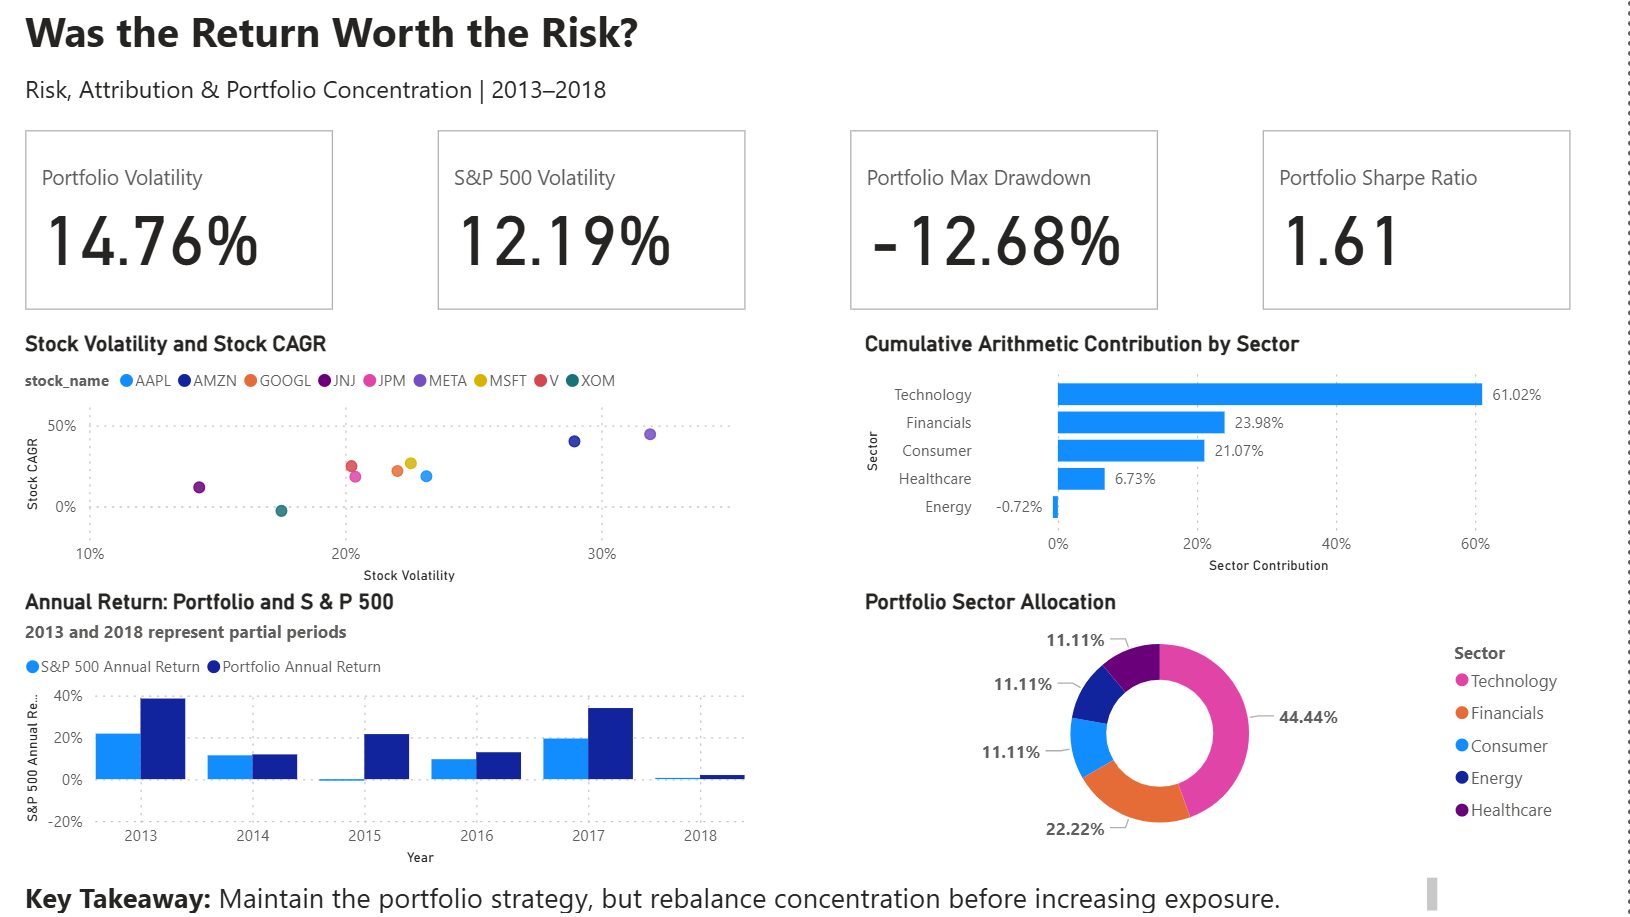

What the dashboard file says about the page in this screenshot:
{"tool":"powerbi","page":{"name":"Risk Attribution","canvas":[1280,720],"ordinal":3},"visuals":[{"type":"textbox","box":[25,0,629.8,54.8],"z":0},{"type":"textbox","box":[25,54.8,629.8,45.4],"z":1000},{"type":"cardVisual","fields":{"Data":["stock_returns.Portfolio Volatility"]},"box":[25,100,250,150],"z":2000},{"type":"cardVisual","fields":{"Data":["stock_returns.Portfolio Max Drawdown"]},"box":[668.3,100,250,150],"z":3000},{"type":"cardVisual","fields":{"Data":["stock_returns.Portfolio Sharpe Ratio"]},"box":[990,100,250,150],"z":4000},{"type":"cardVisual","fields":{"Data":["benchmark_returns.S&P 500 Volatility"]},"box":[346.7,100,250,150],"z":5000},{"type":"scatterChart","title":"Stock Volatility and Stock CAGR ","fields":{"X":["stock_returns.Stock Volatility"],"Y":["stock_returns.Stock CAGR"],"Series":["stock_returns.stock_name"]},"box":[25.3,261.1,571,200.7],"z":6000},{"type":"clusteredBarChart","title":"Cumulative Arithmetic Contribution by Sector","fields":{"Category":["stock_returns.Sector"],"Y":["stock_returns.Sector Contribution"]},"box":[680.1,261.1,559.3,192.9],"z":7000},{"type":"clusteredColumnChart","title":"Annual Return: Portfolio and S & P 500","fields":{"Category":["DimDate.Year"],"Y":["benchmark_returns.S&P 500 Annual Return","stock_returns.Portfolio Annual Return"]},"box":[25.3,461.9,571,220.2],"z":8000},{"type":"donutChart","title":"Portfolio Sector Allocation","fields":{"Category":["stock_returns.Sector"],"Y":["stock_returns.Portfolio Weight"]},"box":[680.1,461.9,559.3,206.6],"z":9000},{"type":"textbox","box":[25.3,682.1,1110.8,37],"z":10000}]}

Visuals, with their boxes in screenshot pixels (x1, y1, x2, y2), scaled from the page's 1280x720 canvas onto the 1630x917 screenshot:
textbox: <bbox>32, 0, 834, 70</bbox>
textbox: <bbox>32, 70, 834, 128</bbox>
cardVisual - stock_returns.Portfolio Volatility: <bbox>32, 127, 350, 318</bbox>
cardVisual - stock_returns.Portfolio Max Drawdown: <bbox>851, 127, 1169, 318</bbox>
cardVisual - stock_returns.Portfolio Sharpe Ratio: <bbox>1261, 127, 1579, 318</bbox>
cardVisual - benchmark_returns.S&P 500 Volatility: <bbox>442, 127, 760, 318</bbox>
"Stock Volatility and Stock CAGR " scatterChart: <bbox>32, 333, 759, 588</bbox>
"Cumulative Arithmetic Contribution by Sector" clusteredBarChart: <bbox>866, 333, 1578, 578</bbox>
"Annual Return: Portfolio and S & P 500" clusteredColumnChart: <bbox>32, 588, 759, 869</bbox>
"Portfolio Sector Allocation" donutChart: <bbox>866, 588, 1578, 851</bbox>
textbox: <bbox>32, 869, 1447, 916</bbox>
